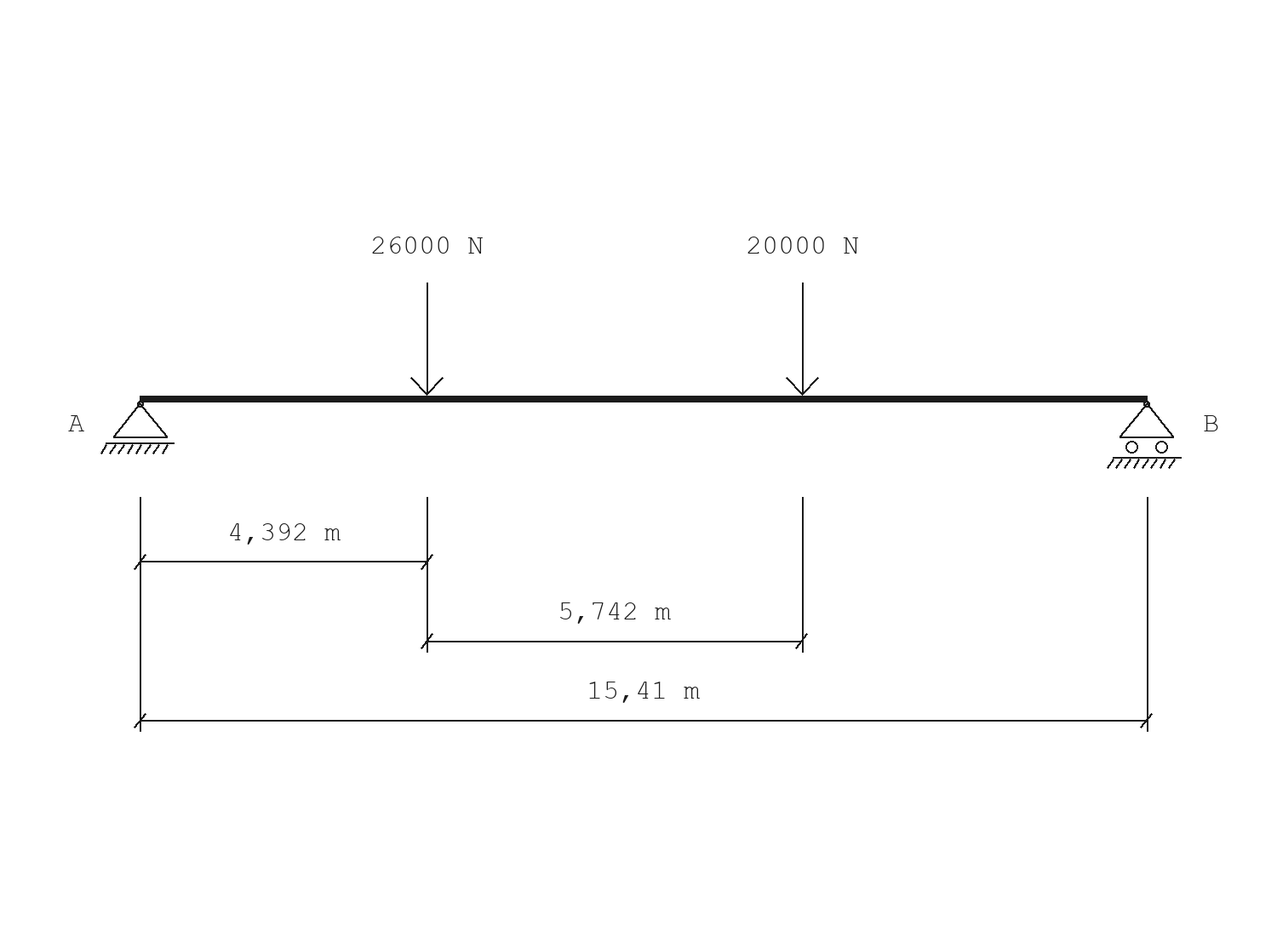pin_support: (100, 401, 175, 454)
point_load: (410, 283, 444, 396), (786, 283, 819, 396)
roller_support: (1107, 401, 1182, 469)
